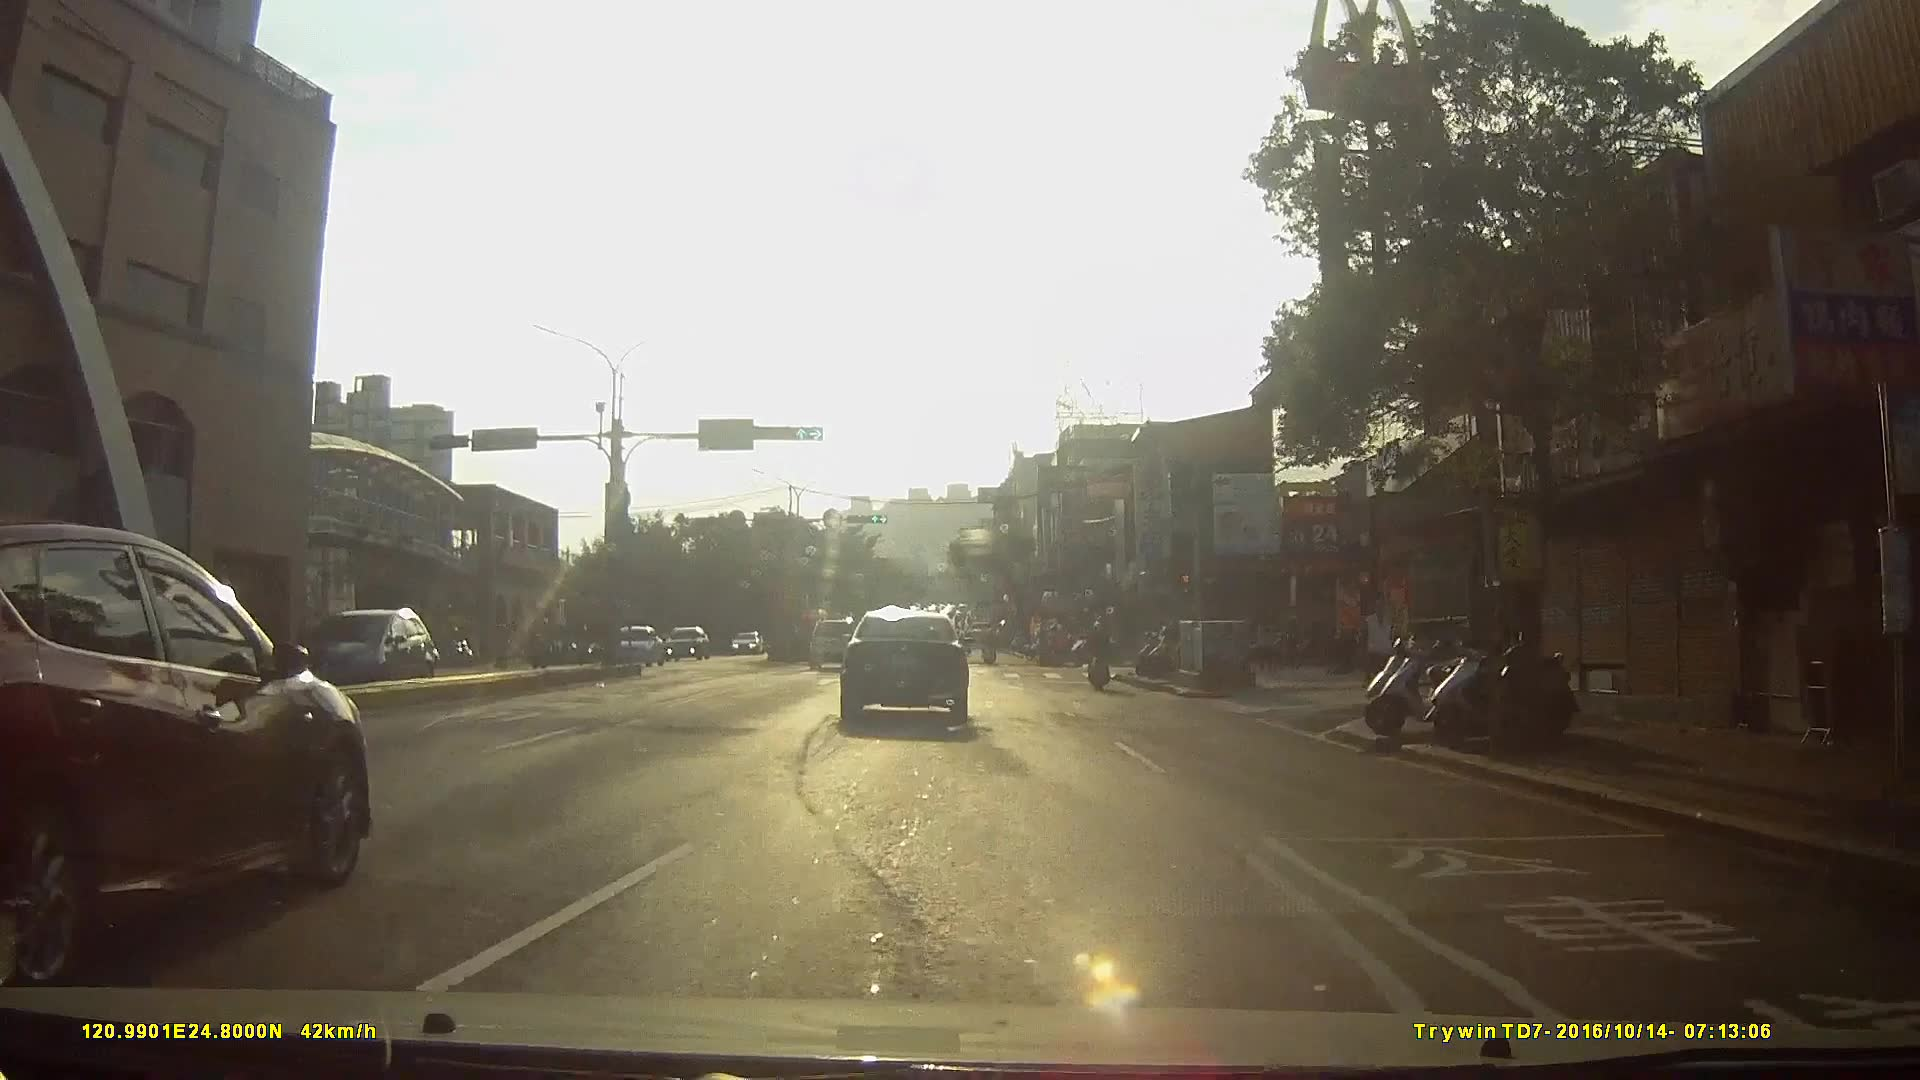pedestrian: (1355, 591, 1402, 702)
rider: (1083, 620, 1111, 693), (1037, 624, 1073, 668), (980, 625, 1000, 666)
vehicle: (1, 520, 379, 992), (837, 610, 983, 735), (282, 600, 446, 697), (806, 615, 865, 670), (608, 626, 668, 669), (665, 624, 713, 664), (728, 628, 766, 657)
